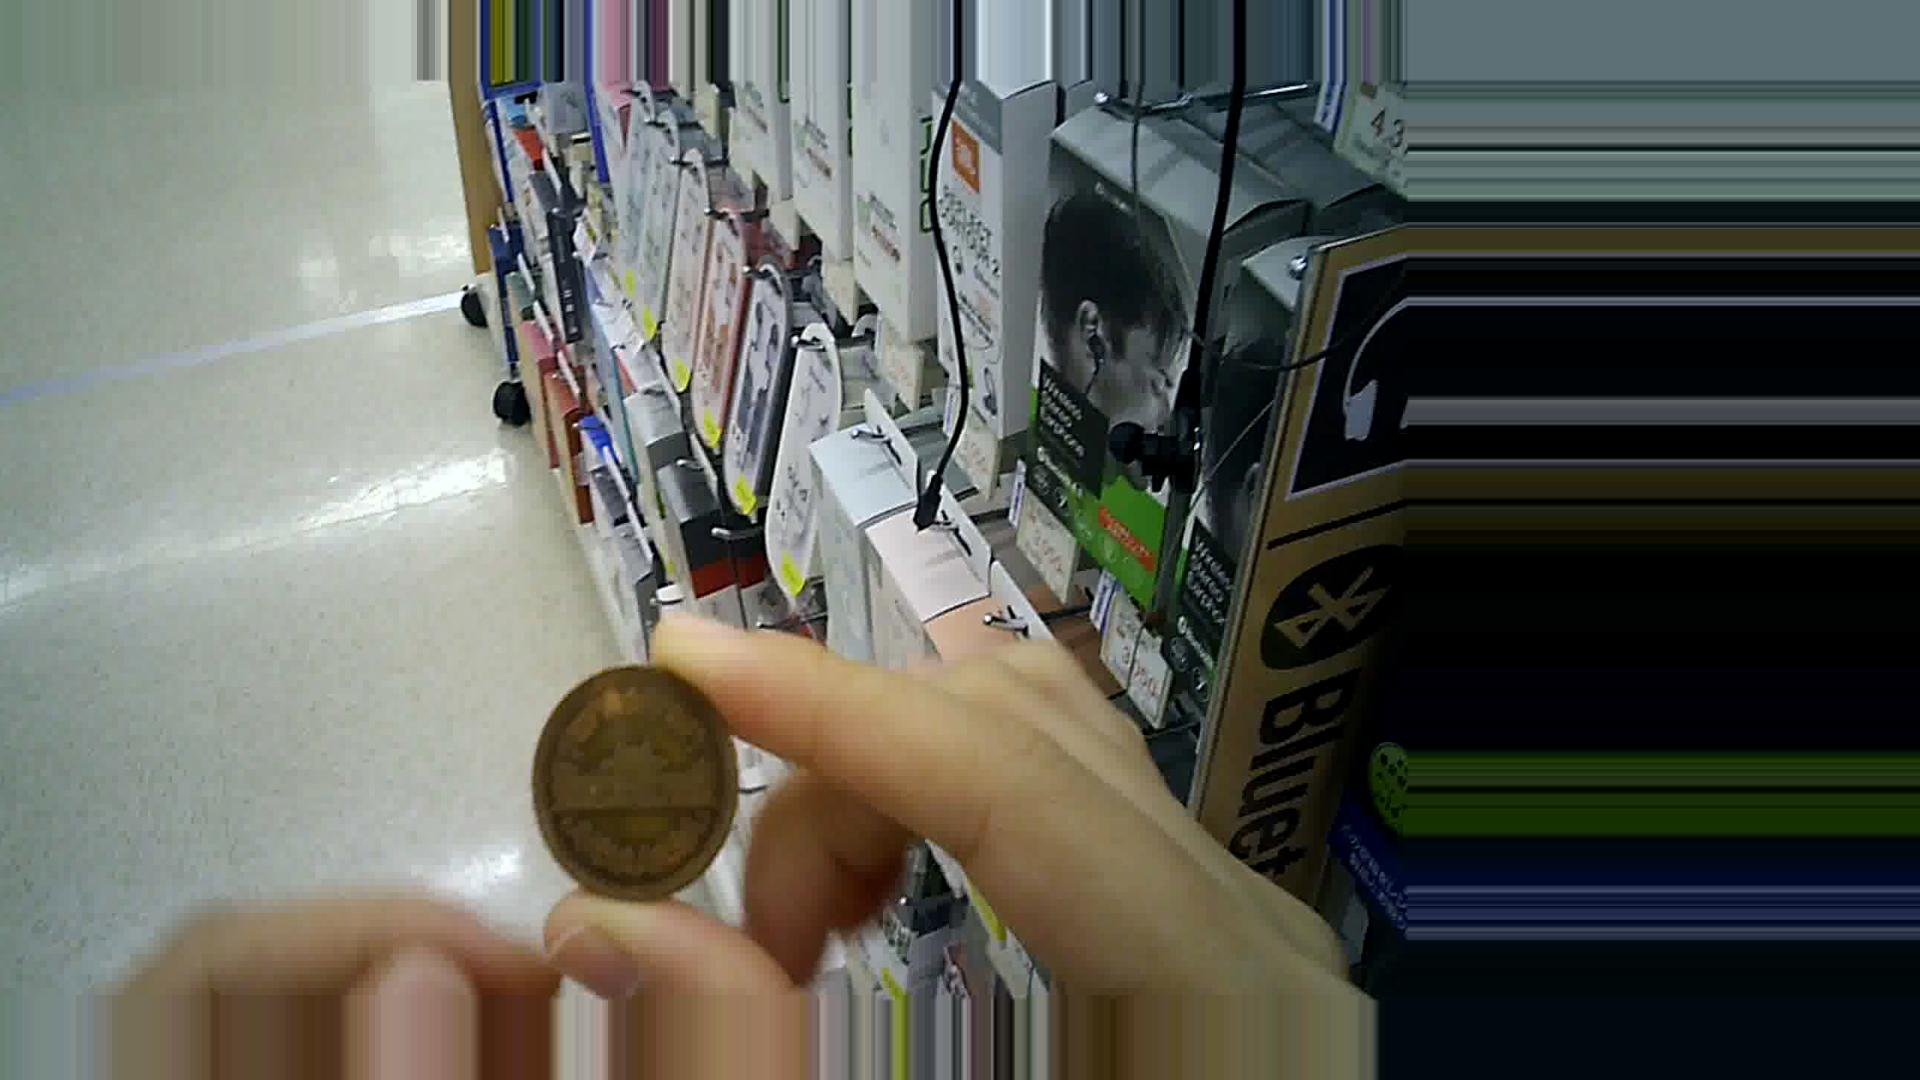10 Yen: (526, 649, 742, 901)
